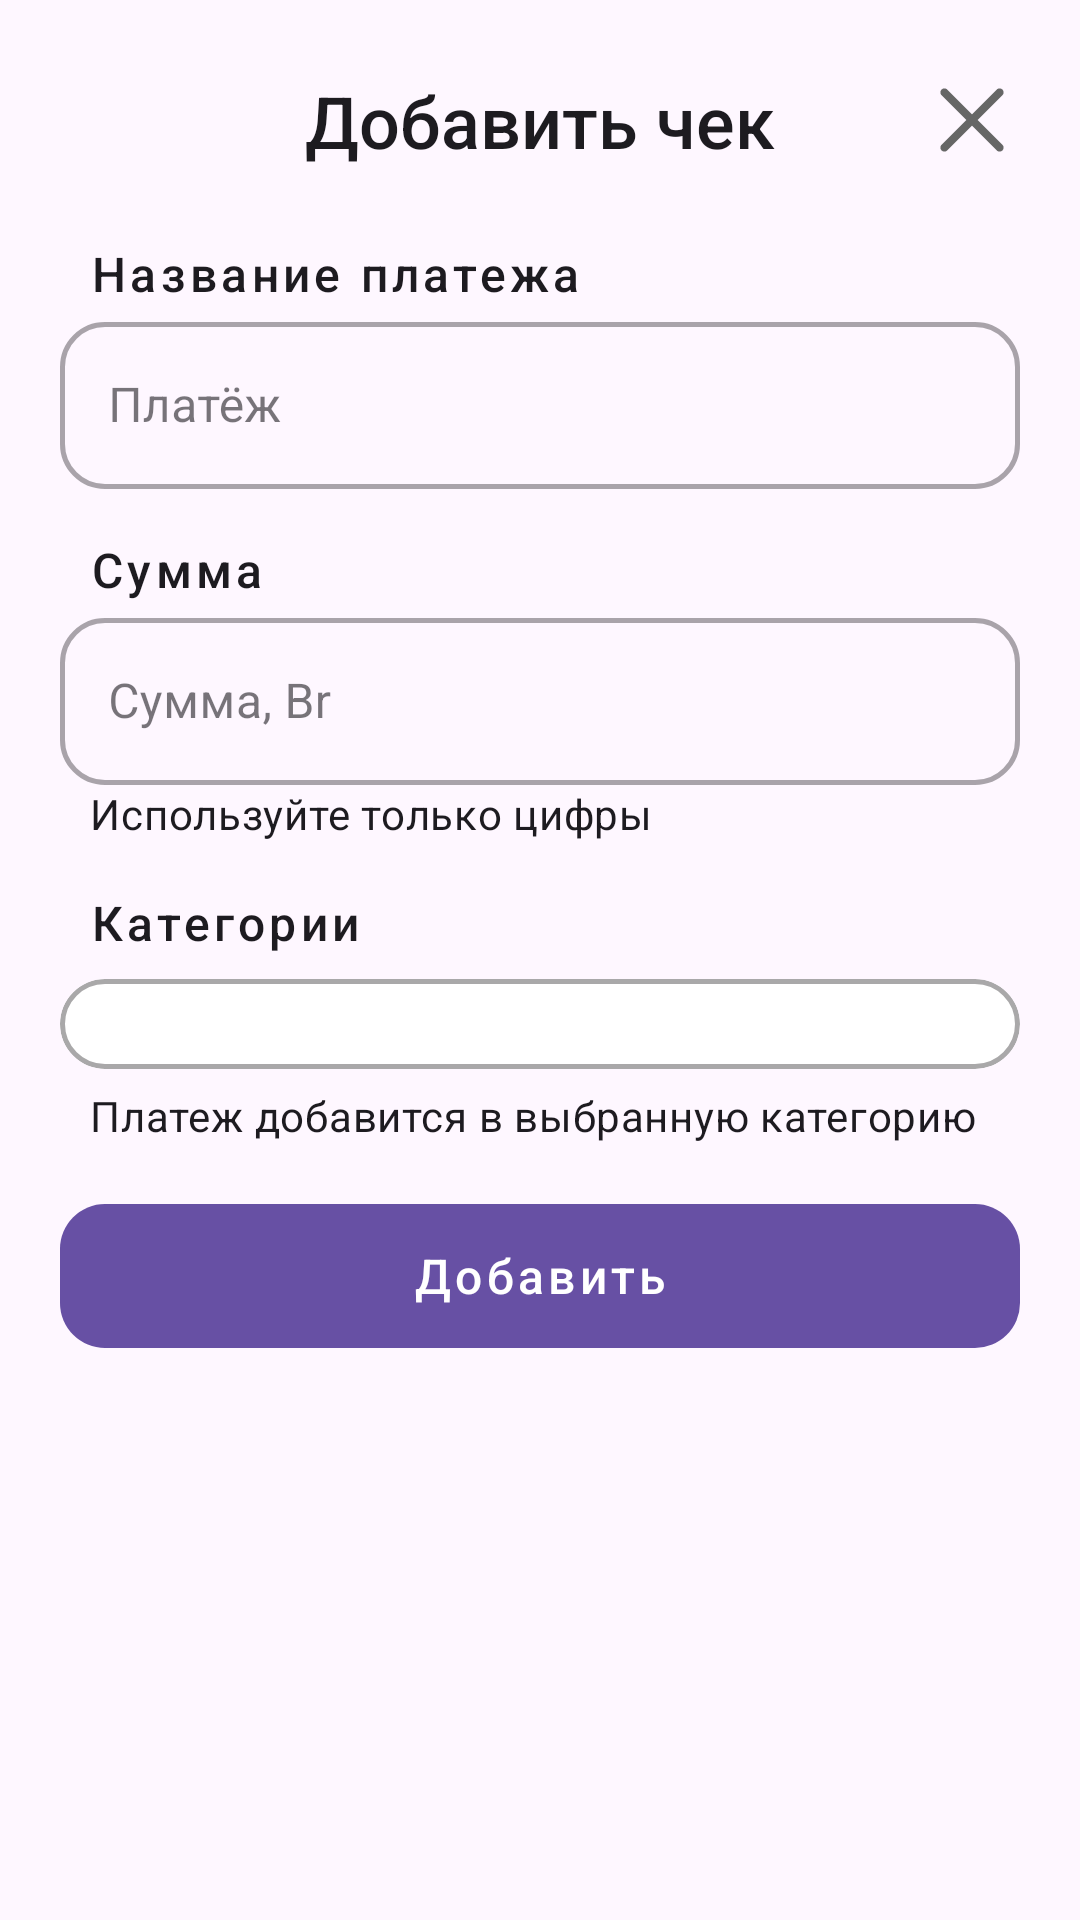

Screen size 1080*1920. Icon name, then its center in pixels as (x,y):
cross: (972,120)
